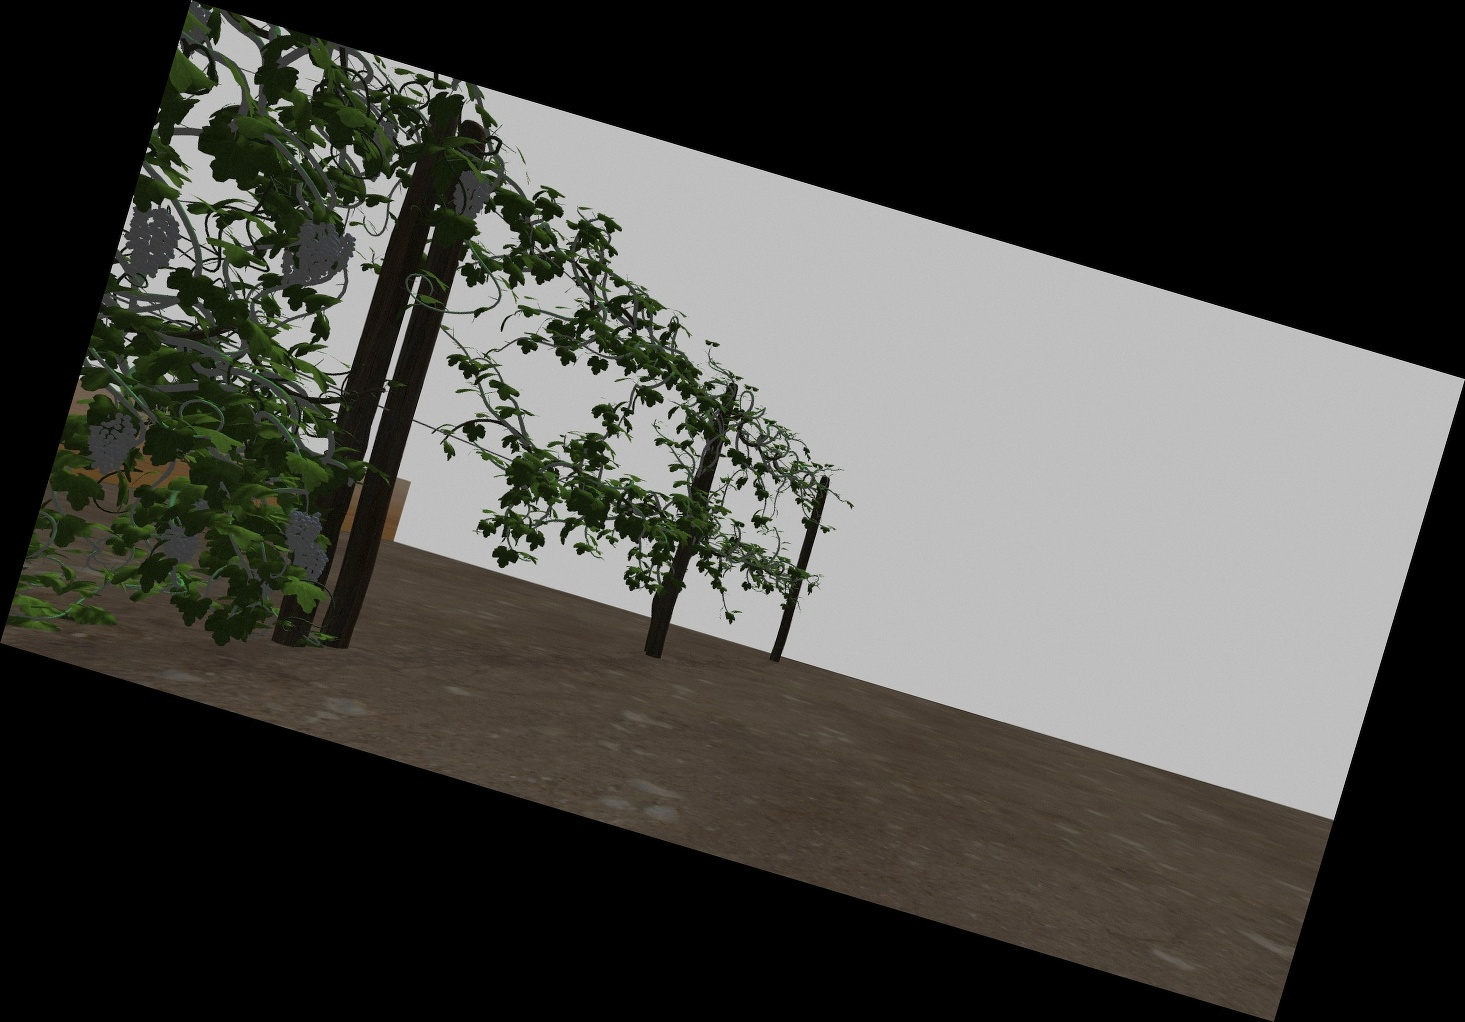grape: (126, 204, 178, 283), (86, 409, 132, 473), (297, 224, 340, 279), (452, 171, 489, 222), (161, 523, 205, 563), (284, 509, 319, 553), (299, 548, 330, 582), (335, 232, 355, 271)
